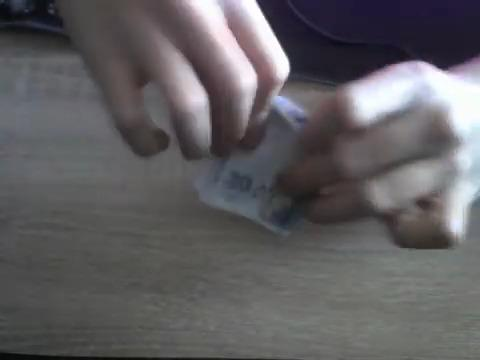20leva: (190, 97, 307, 239)
